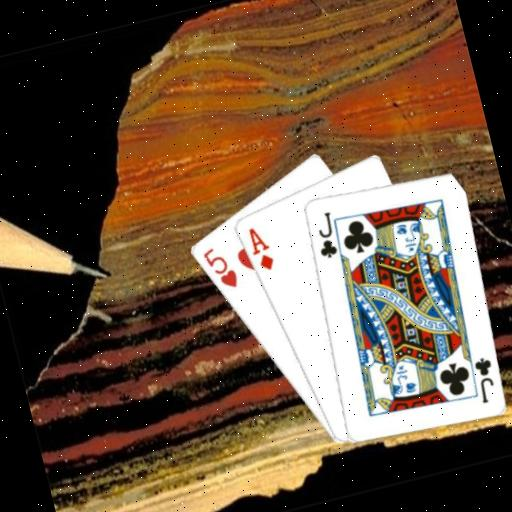5H: (198, 240, 241, 295)
AD: (242, 221, 277, 275)
JC: (307, 208, 342, 262), (468, 353, 502, 406)
